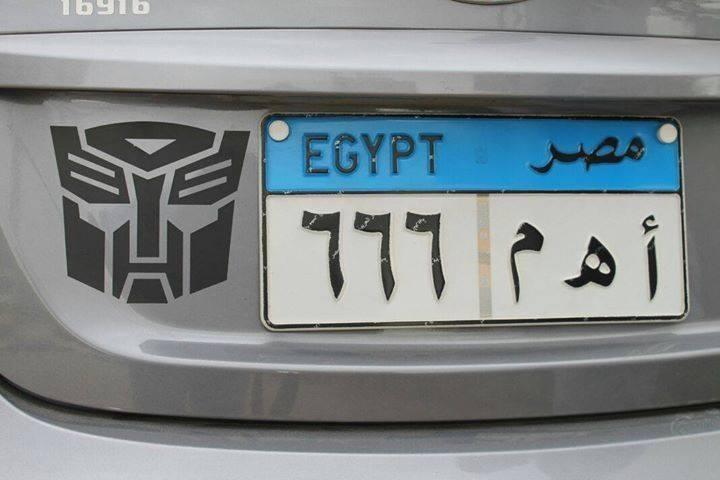6: (292, 204, 349, 307), (397, 205, 455, 305), (349, 205, 401, 304)
Heeh: (559, 224, 621, 299)
License Plate: (254, 110, 692, 334)
Meem: (501, 216, 547, 309)
alef: (635, 209, 670, 308)
